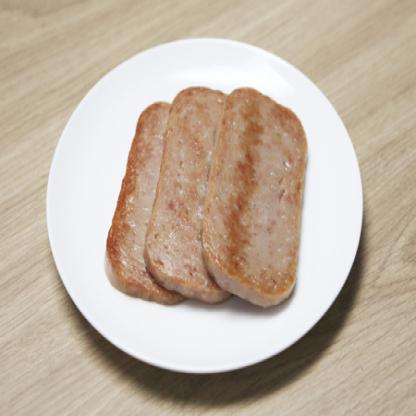spam: (140, 89, 296, 302)
